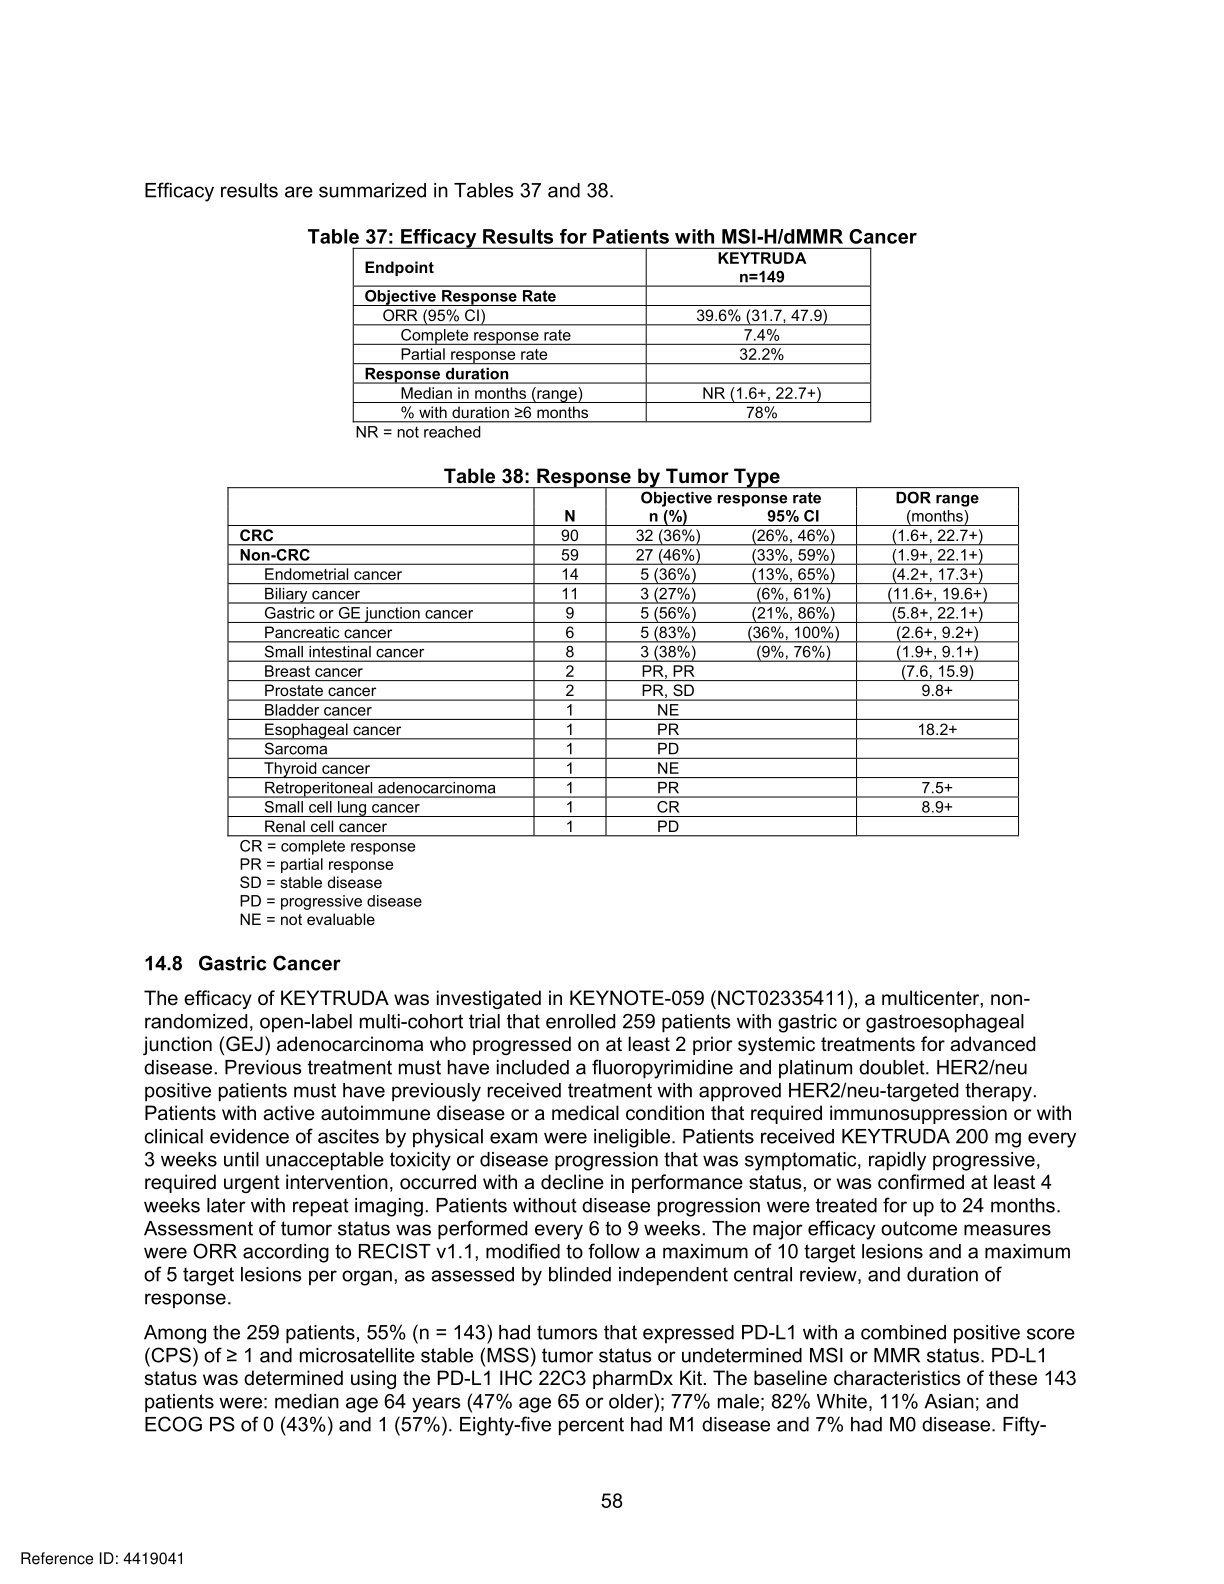full_lined: (228, 487, 1020, 837), (352, 246, 872, 423)
